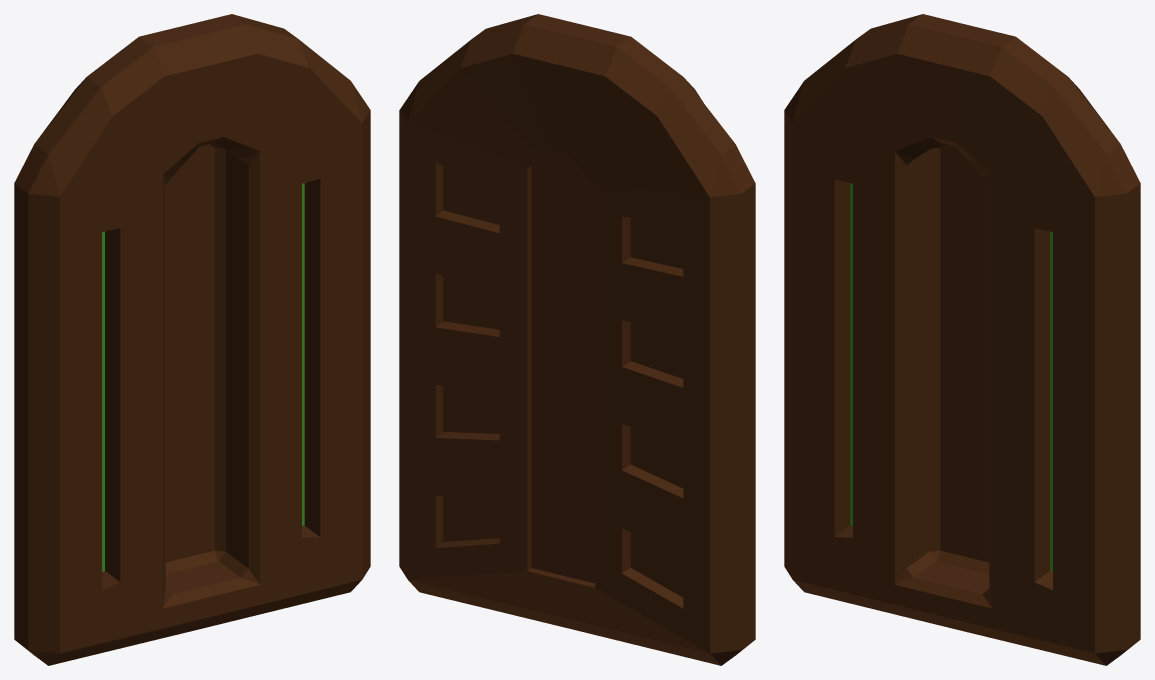
Rendered from StonePortal.fbx.
The picture shows the model from 3 angles, left to right: view 1: azimuth 30°, elevation 25°; view 2: azimuth 150°, elevation 25°; view 3: azimuth 330°, elevation 25°; orthographic projection.
Parts seen in each view (by area): view 1: Stone Portal, Stone Portal.001; view 2: Stone Portal, Stone Portal.001; view 3: Stone Portal, Stone Portal.001.
Boxes of the visible parts, <box> form: Stone Portal: <box>14,14,370,665</box>; Stone Portal.001: <box>165,144,214,562</box>; Stone Portal: <box>399,14,755,665</box>; Stone Portal.001: <box>531,152,595,583</box>; Stone Portal: <box>784,14,1140,665</box>; Stone Portal.001: <box>940,144,989,562</box>.
Size of the model in its own units: 96.68 by 160 by 18.34.
